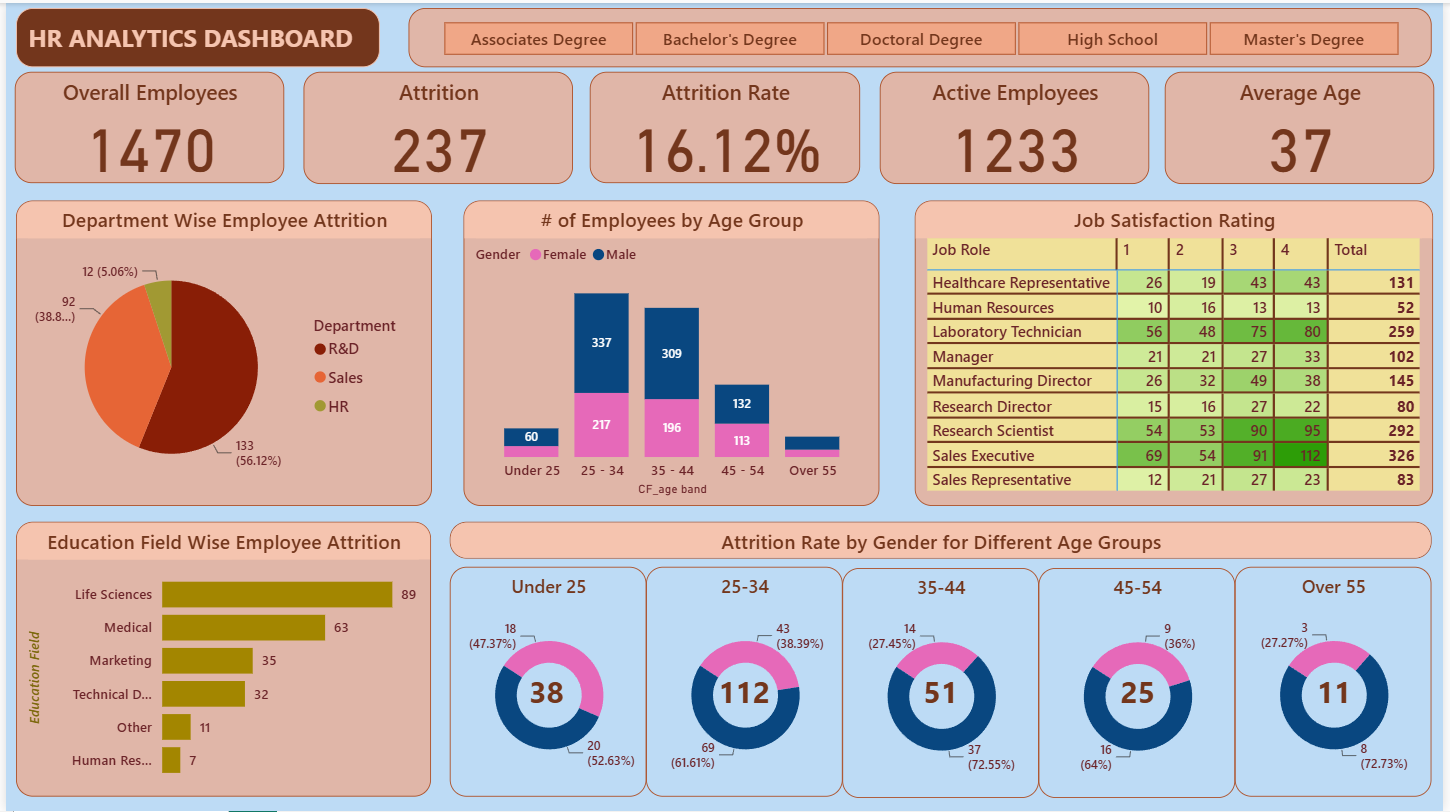

This screenshot's page, from the dashboard's own definition file:
{"tool":"powerbi","page":{"name":"HR Analytics Dashboard","canvas":[1280,720],"ordinal":0},"visuals":[{"type":"card","title":"Overall Employees","fields":{"Values":["Sum(HR data.Employee Count)"]},"box":[8.3,61.5,239.9,99.1],"z":0},{"type":"card","title":"Attrition ","fields":{"Values":["Sum(HR data.Attrition Count)"]},"box":[264.9,61.5,239.9,100.1],"z":1000},{"type":"card","title":"Attrition Rate","fields":{"Values":["HR data.Attrition Rate"]},"box":[520.4,61.5,240.9,99.1],"z":2000},{"type":"card","title":"Active Employees","fields":{"Values":["HR data.Active employees"]},"box":[778,61.5,239.9,100.1],"z":3000},{"type":"card","title":"Average Age","fields":{"Values":["Avg(HR data.Age)"]},"box":[1031.4,61.5,239.9,100.1],"z":4000},{"type":"pieChart","title":"Department Wise Employee Attrition","fields":{"Category":["HR data.Department"],"Y":["Sum(HR data.Attrition Count)"]},"box":[8.4,175.8,370.2,272.1],"z":5000},{"type":"columnChart","title":"# of Employees by Age Group","fields":{"Category":["HR data.CF_age band"],"Y":["Sum(HR data.Employee Count)"],"Series":["HR data.Gender"]},"box":[407.6,175.8,370.2,272.1],"z":6000},{"type":"pivotTable","title":"Job Satisfaction Rating","fields":{"Rows":["HR data.Job Role"],"Columns":["HR data.Job Satisfaction"],"Values":["Sum(HR data.Employee Count)"]},"box":[809.6,175.8,461.8,272.1],"z":7000},{"type":"barChart","title":"Education Field Wise Employee Attrition","fields":{"Category":["HR data.Education Field"],"Y":["Sum(HR data.Attrition Count)"]},"box":[9.3,461.8,369.3,244.9],"z":8000},{"type":"donutChart","title":"Under 25","fields":{"Category":["HR data.Gender"],"Y":["Sum(HR data.Attrition Count)"],"Series":["HR data.CF_age band"]},"box":[395.5,502,174.8,204.7],"z":9000},{"type":"textbox","title":"Attrition Rate by Gender for Different Age Groups","box":[395.5,461.8,874.1,32.7],"z":10000},{"type":"donutChart","title":"25-34","fields":{"Category":["HR data.Gender"],"Y":["Sum(HR data.Attrition Count)"],"Series":["HR data.CF_age band"]},"box":[570.3,502,174.8,204.7],"z":11000},{"type":"donutChart","title":"35-44","fields":{"Category":["HR data.Gender"],"Y":["Sum(HR data.Attrition Count)"],"Series":["HR data.CF_age band"]},"box":[745.1,503,174.8,204.7],"z":12000},{"type":"donutChart","title":"45-54","fields":{"Category":["HR data.Gender"],"Y":["Sum(HR data.Attrition Count)"],"Series":["HR data.CF_age band"]},"box":[919.9,503,174.8,204.7],"z":13000},{"type":"donutChart","title":"Over 55","fields":{"Category":["HR data.Gender"],"Y":["Sum(HR data.Attrition Count)"],"Series":["HR data.CF_age band"]},"box":[1094.8,502,174.8,204.7],"z":14000},{"type":"card","fields":{"Values":["Sum(HR data.Attrition Count)"]},"box":[459,597.4,45.8,33.7],"z":15000},{"type":"card","fields":{"Values":["Sum(HR data.Attrition Count)"]},"box":[628.8,597.5,57.4,33.4],"z":16000},{"type":"card","fields":{"Values":["Sum(HR data.Attrition Count)"]},"box":[806.1,597.5,53.2,33.4],"z":17000},{"type":"card","fields":{"Values":["Sum(HR data.Attrition Count)"]},"box":[985.4,597.4,45.8,33.7],"z":18000},{"type":"card","fields":{"Values":["Sum(HR data.Attrition Count)"]},"box":[1160.2,597.4,45.8,33.7],"z":19000},{"type":"textbox","box":[9.4,4.2,324.3,53.2],"z":20000},{"type":"slicer","fields":{"Values":["HR data.Education"]},"box":[358.7,4.2,911.4,53],"z":21000}]}

Visuals, with their boxes in screenshot pixels (x1, y1, x2, y2), scaled from the page's 1280x720 canvas onto the 1450x812 screenshot:
"Overall Employees" card: rect(9, 69, 281, 181)
"Attrition " card: rect(300, 69, 572, 182)
"Attrition Rate" card: rect(590, 69, 862, 181)
"Active Employees" card: rect(881, 69, 1153, 182)
"Average Age" card: rect(1168, 69, 1440, 182)
"Department Wise Employee Attrition" pieChart: rect(10, 198, 429, 505)
"# of Employees by Age Group" columnChart: rect(462, 198, 881, 505)
"Job Satisfaction Rating" pivotTable: rect(917, 198, 1440, 505)
"Education Field Wise Employee Attrition" barChart: rect(11, 521, 429, 797)
"Under 25" donutChart: rect(448, 566, 646, 797)
"Attrition Rate by Gender for Different Age Groups" textbox: rect(448, 521, 1438, 558)
"25-34" donutChart: rect(646, 566, 844, 797)
"35-44" donutChart: rect(844, 567, 1042, 798)
"45-54" donutChart: rect(1042, 567, 1240, 798)
"Over 55" donutChart: rect(1240, 566, 1438, 797)
card - Sum(HR data.Attrition Count): rect(520, 674, 572, 712)
card - Sum(HR data.Attrition Count): rect(712, 674, 777, 712)
card - Sum(HR data.Attrition Count): rect(913, 674, 973, 712)
card - Sum(HR data.Attrition Count): rect(1116, 674, 1168, 712)
card - Sum(HR data.Attrition Count): rect(1314, 674, 1366, 712)
textbox: rect(11, 5, 378, 65)
slicer - HR data.Education: rect(406, 5, 1439, 65)
